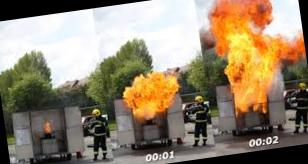Fire: (202, 0, 305, 116), (121, 68, 184, 124)
